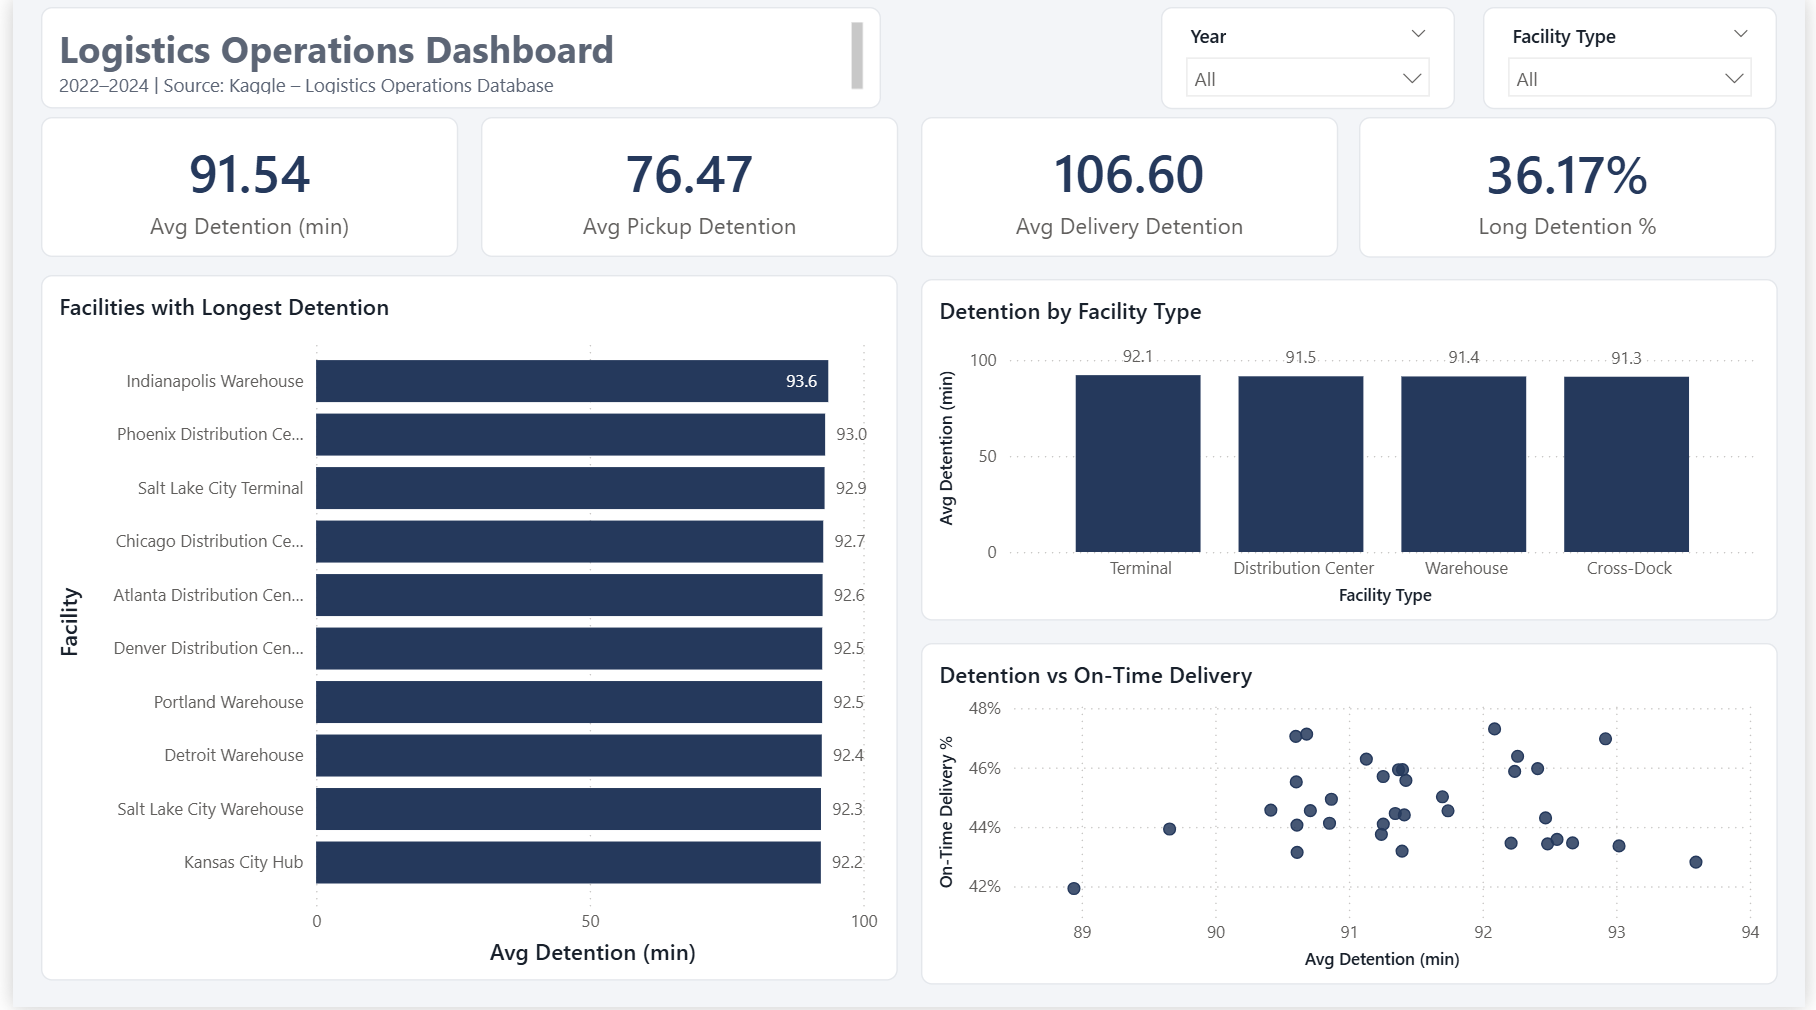

What the dashboard file says about the page in this screenshot:
{"tool":"powerbi","page":{"name":"Facilities","canvas":[1280,720],"ordinal":2},"visuals":[{"type":"slicer","fields":{"Values":["Date.Year"]},"box":[820,5,210,73],"z":0},{"type":"slicer","fields":{"Values":["facilities.facility_type"]},"box":[1050,5,210.2,73],"z":1000},{"type":"textbox","box":[20,5,599.8,72.3],"z":2000},{"type":"card","fields":{"Values":["loads.Long Detention %"]},"box":[962,84,298,100.4],"z":3000},{"type":"card","fields":{"Values":["loads.Avg Detention (min)"]},"box":[20,84,298,100],"z":4000},{"type":"card","fields":{"Values":["loads.Avg Pickup Detention"]},"box":[334,84,298,100],"z":5000},{"type":"card","fields":{"Values":["loads.Avg Delivery Detention"]},"box":[648,84,298,100],"z":6000},{"type":"clusteredBarChart","title":"Facilities with Longest Detention","fields":{"Category":["facilities.facility_name"],"Y":["loads.Avg Detention (min)"]},"box":[20.1,196.8,612,504],"z":7000},{"type":"clusteredColumnChart","title":"Detention by Facility Type","fields":{"Category":["facilities.facility_type"],"Y":["loads.Avg Detention (min)"]},"box":[648,200,612,244],"z":8000},{"type":"scatterChart","title":"Detention vs On-Time Delivery","fields":{"X":["loads.Avg Detention (min)"],"Y":["loads.On-Time Delivery %"],"Category":["facilities.facility_name"]},"box":[648,460,612,244],"z":9000}]}

Visuals, with their boxes in screenshot pixels (x1, y1, x2, y2), scaled from the page's 1280x720 canvas onto the 1816x1010 screenshot:
slicer - Date.Year: region(1163, 7, 1461, 109)
slicer - facilities.facility_type: region(1490, 7, 1788, 109)
textbox: region(28, 7, 879, 108)
card - loads.Long Detention %: region(1365, 118, 1788, 259)
card - loads.Avg Detention (min): region(28, 118, 451, 258)
card - loads.Avg Pickup Detention: region(474, 118, 897, 258)
card - loads.Avg Delivery Detention: region(919, 118, 1342, 258)
"Facilities with Longest Detention" clusteredBarChart: region(29, 276, 897, 983)
"Detention by Facility Type" clusteredColumnChart: region(919, 281, 1788, 623)
"Detention vs On-Time Delivery" scatterChart: region(919, 645, 1788, 988)
